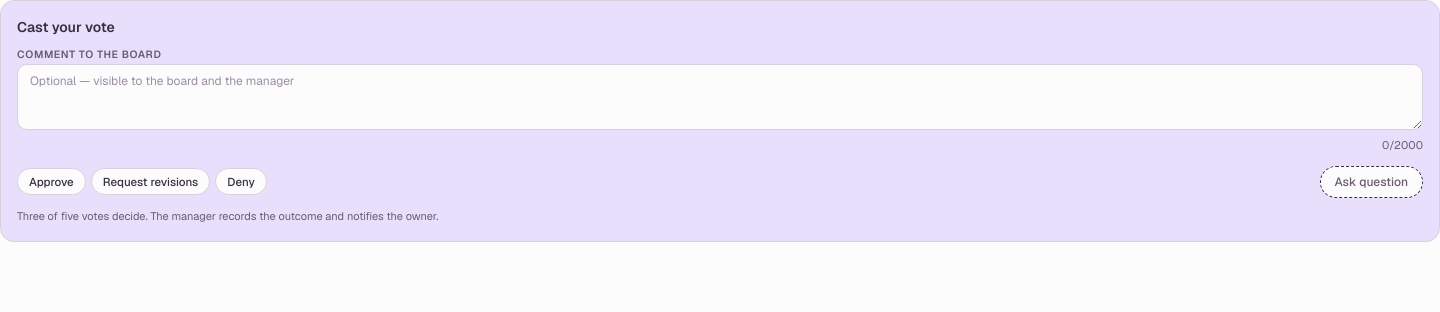
Test: CastVoteCardComponent (027 US2/US4, 031) › refuses an empty question and shows the due-date notice (US4-S5, 031 item 13)
Click the button "Ask question" at (1371, 182), box x1=1320 y1=166 x2=1423 y2=198
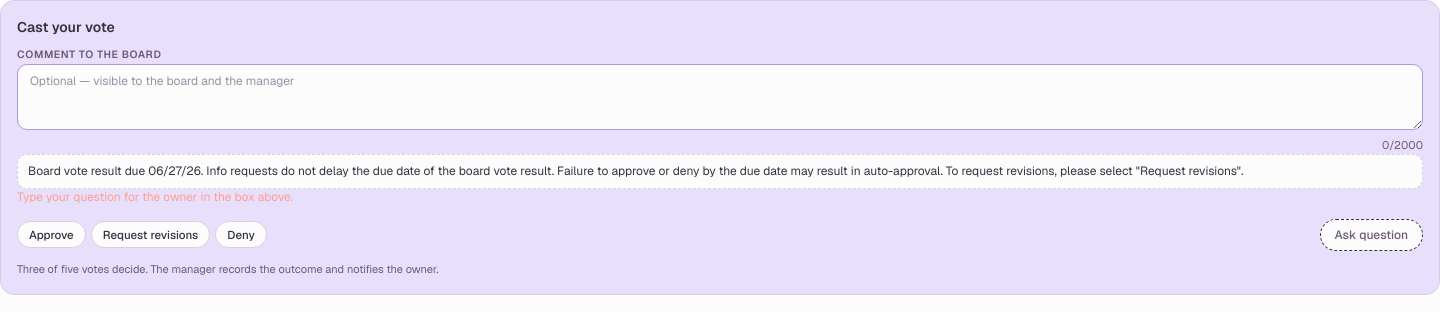
Expected: the message shows "Type your question for the owner", x1=17 y1=189 x2=293 y2=205
